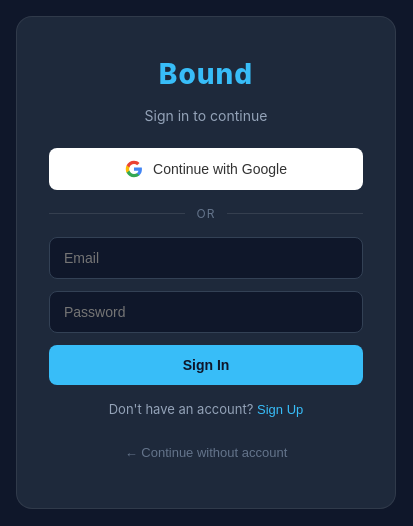
LoginPage › Sign Up toggle › should toggle to sign up mode
Click the button "Sign Up" at (280, 409), box [257,402,303,416]
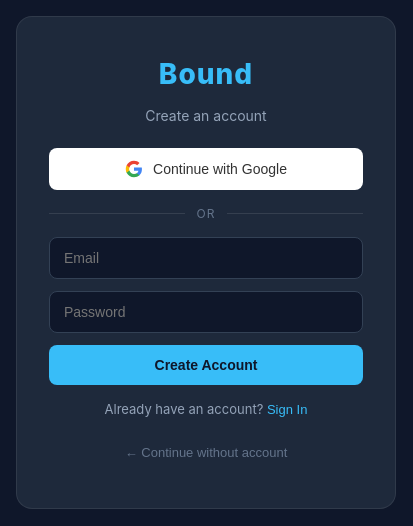
expect the text "Create an account" is shown: met, box [145,106,267,124]
expect the button "Create Account" is shown: met, box [49,344,363,384]
